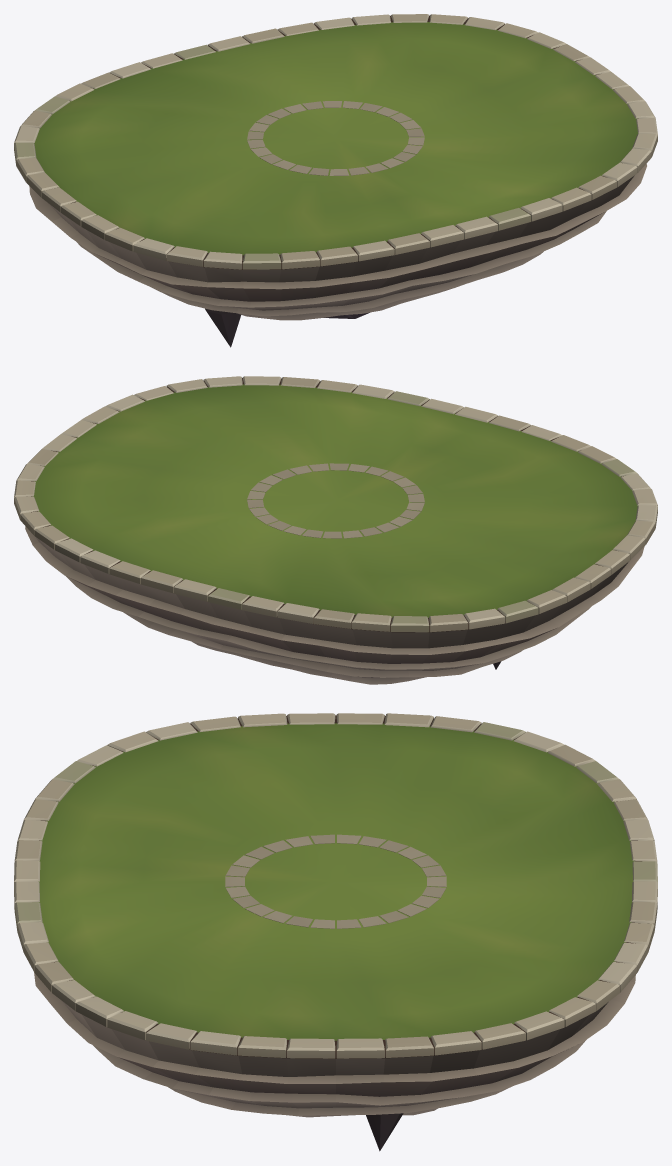
The model's file is plateau_pierre.glb.
The picture shows the model from 3 angles, top to bottom: view 1: azimuth 30°, elevation 25°; view 2: azimuth 150°, elevation 25°; view 3: azimuth 270°, elevation 25°; orthographic projection. The views are drawn at different scales.
Parts seen in each view (by area): view 1: plateau_pierre; view 2: plateau_pierre; view 3: plateau_pierre.
Boxes of the visible parts, x1=… form: plateau_pierre: x1=14, y1=14, x2=657, y2=347; plateau_pierre: x1=14, y1=376, x2=657, y2=684; plateau_pierre: x1=14, y1=713, x2=657, y2=1151.
Size of the model in its own units: 26.1 by 8.07 by 21.1.
